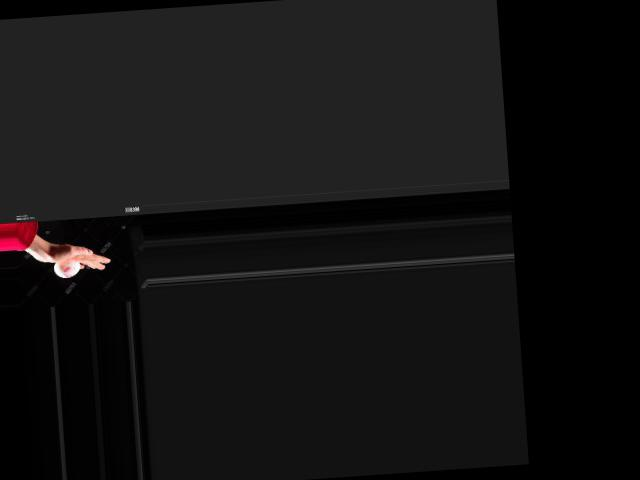egg: (52, 259, 79, 278)
